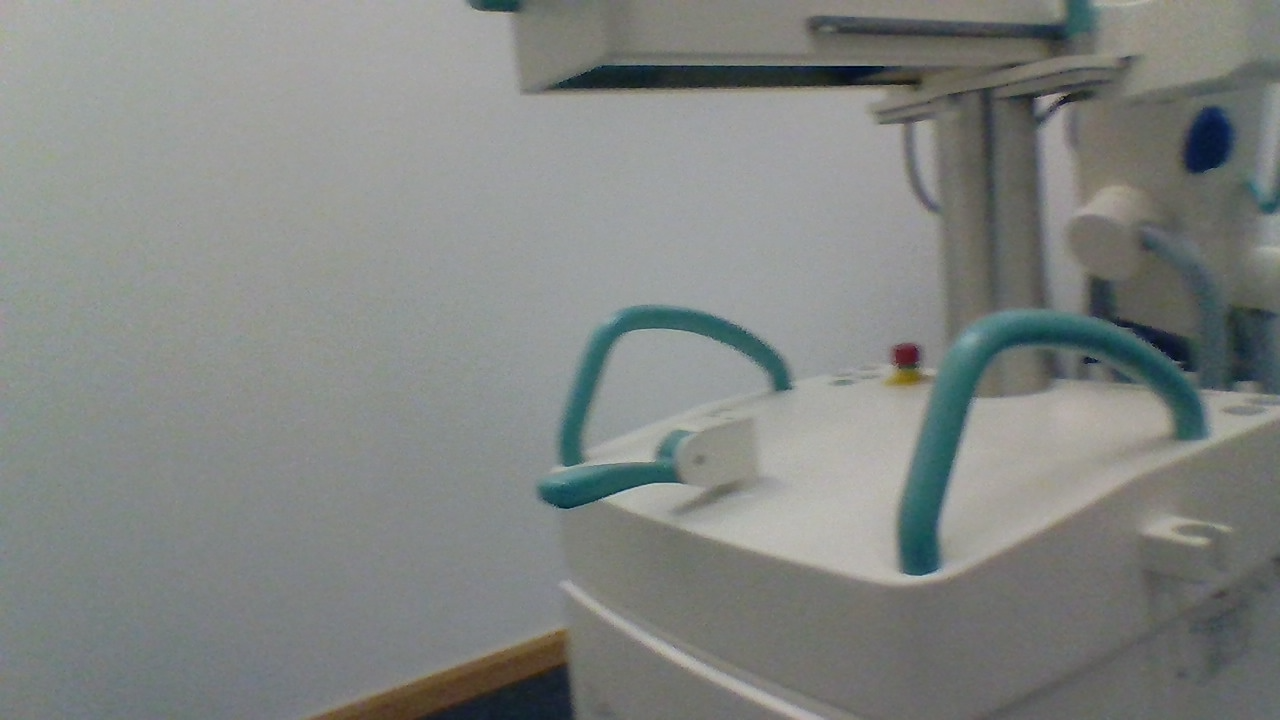carmBACK: (530, 410, 762, 511)
carmLOCK: (1181, 103, 1236, 178)
